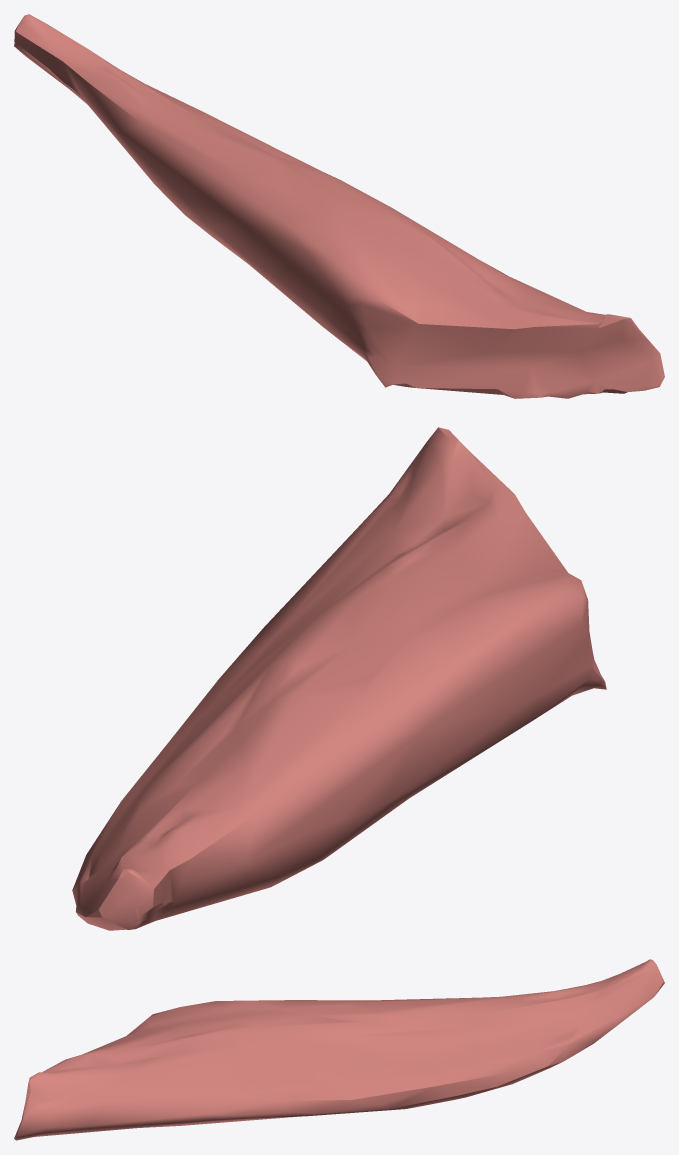
File: fma46292_fj1556.glb
3 renders of one model, top to bottom at view 1: azimuth 30°, elevation 25°; view 2: azimuth 150°, elevation 25°; view 3: azimuth 270°, elevation 25°, orthographic. The views are drawn at different scales.
Parts seen in each view (by area): view 1: FMA46292_FJ1556; view 2: FMA46292_FJ1556; view 3: FMA46292_FJ1556.
Boxes of the visible parts, x1,y1,x2,y2 form: FMA46292_FJ1556: (14, 14, 664, 398); FMA46292_FJ1556: (72, 427, 606, 930); FMA46292_FJ1556: (14, 959, 664, 1140).
Bounding box in the file's own units: 0.0114 × 0.00613 × 0.0345.
